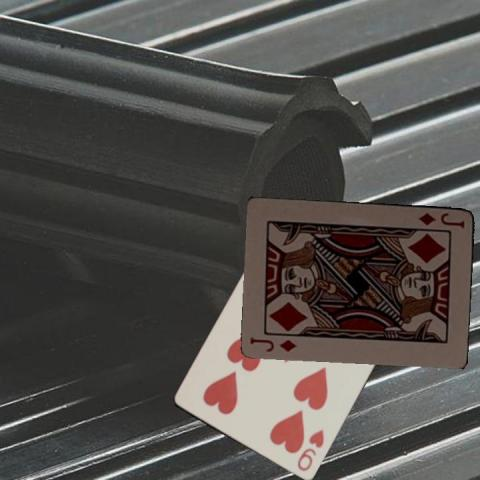9h: (294, 426, 326, 473)
Jd: (247, 334, 298, 353), (416, 210, 466, 229)
